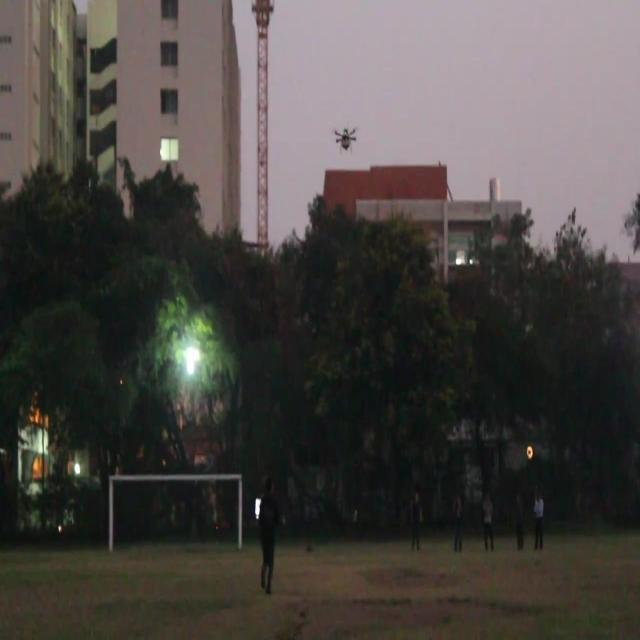drone: (334, 124, 358, 154)
